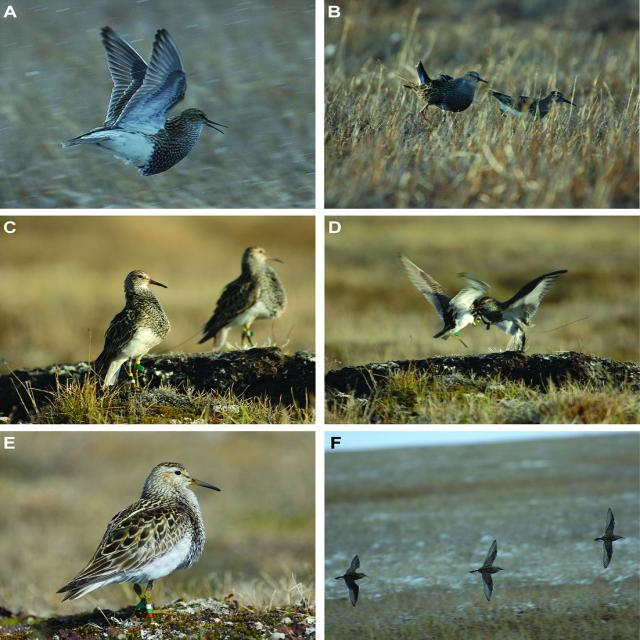Sandpiper: (65, 454, 222, 618), (73, 27, 221, 180), (96, 262, 173, 385), (208, 242, 290, 353), (475, 269, 564, 354), (404, 54, 485, 118)
